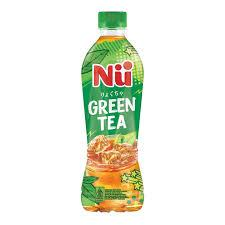BIODEGRADABLE: (80, 7, 163, 209)
